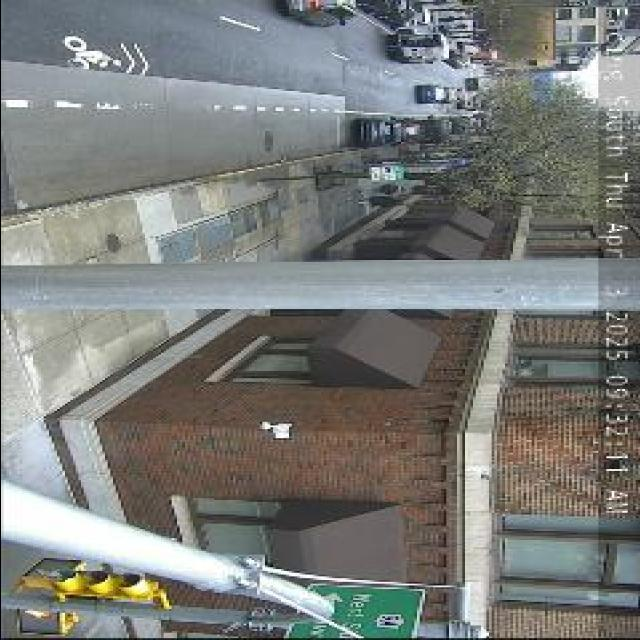parkedCars: (338, 118, 468, 164)
